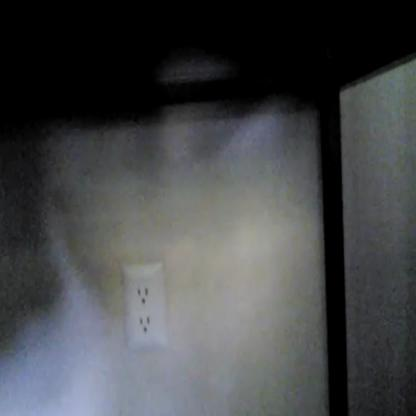OUTLET: (123, 263, 169, 354)
